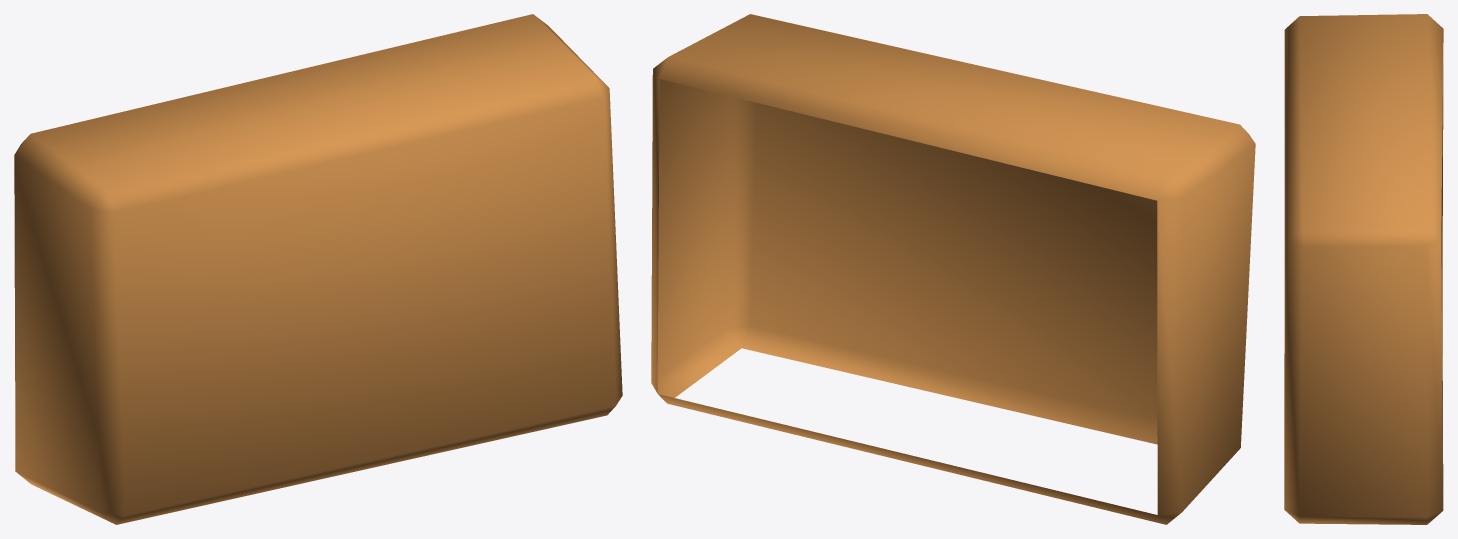
The model's file is block_b_lo.glb.
3 views of the same model, side by side, from view 1: azimuth 30°, elevation 25°; view 2: azimuth 150°, elevation 25°; view 3: azimuth 270°, elevation 25° (orthographic). The views are drawn at different scales.
Visible parts, largest first — view 1: block_b_lo; view 2: block_b_lo; view 3: block_b_lo.
Part boxes in pixels (box(x1,y1,x2,y2)): block_b_lo: box(14, 14, 622, 524); block_b_lo: box(651, 14, 1255, 524); block_b_lo: box(1284, 14, 1443, 524).
Bounding box in the file's own units: 1.2 × 0.755 × 0.362.
